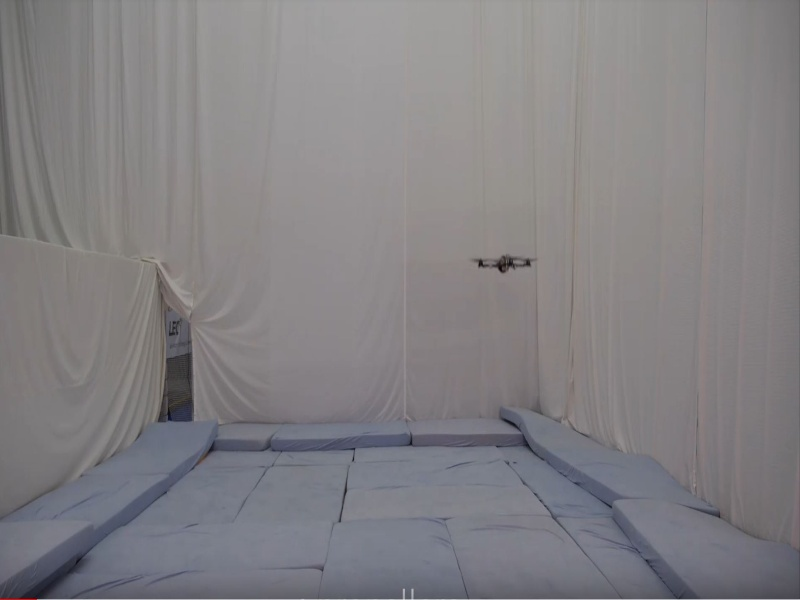drone: (469, 254, 538, 275)
